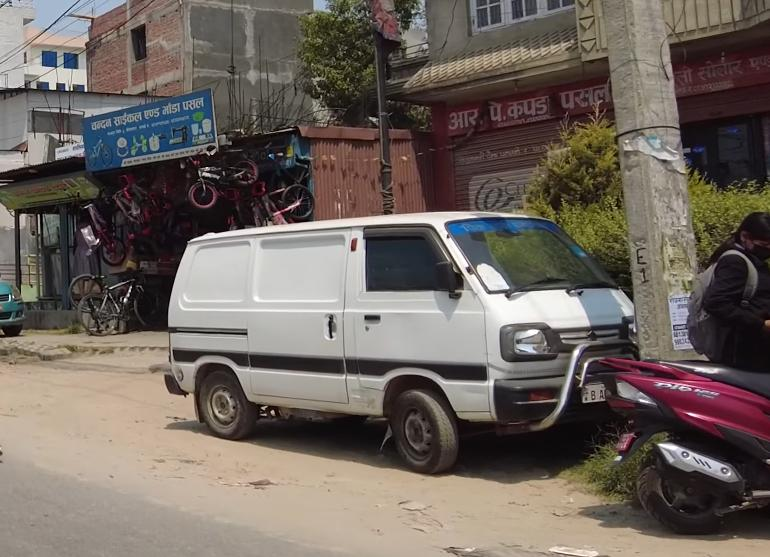scooter: (596, 336, 770, 535)
van: (159, 198, 652, 473)
